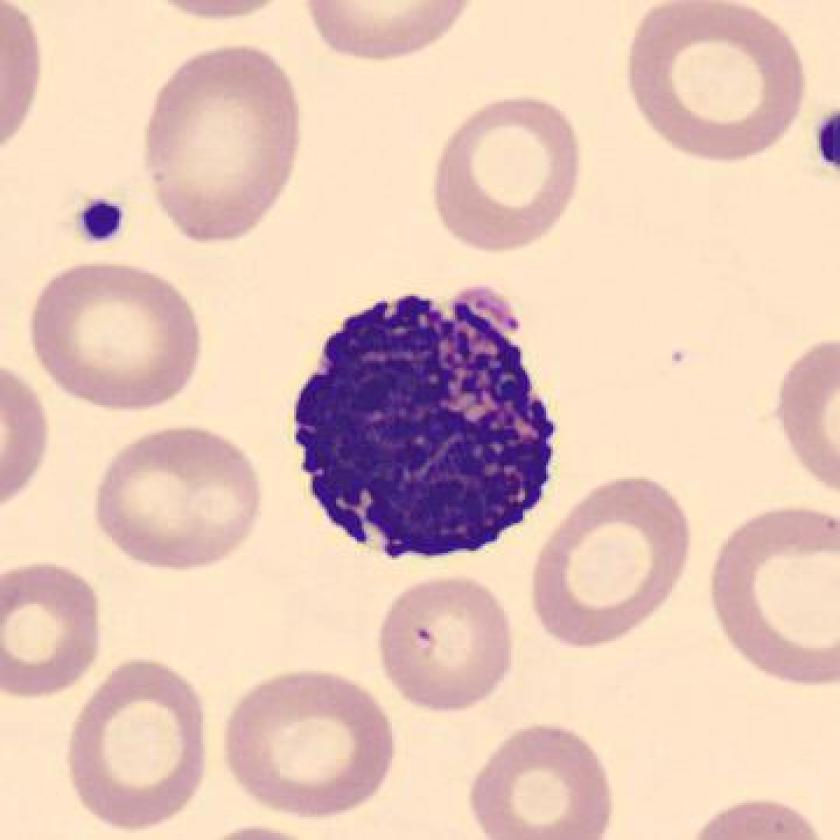basophil: (288, 272, 566, 563)
